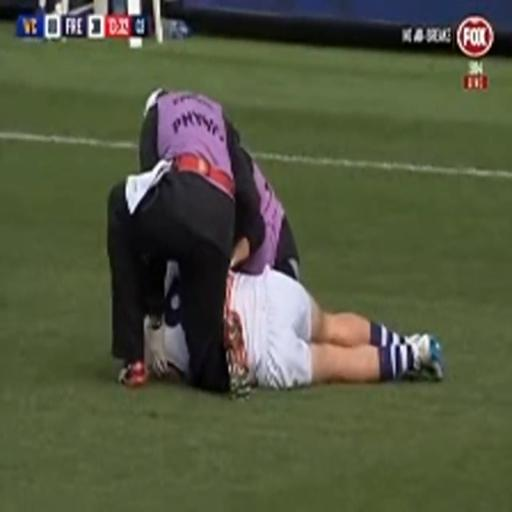nao-violencia: (83, 63, 453, 416)
